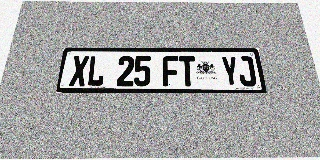2: (116, 56, 134, 86)
5: (134, 56, 151, 86)
F: (162, 56, 179, 86)
J: (236, 56, 257, 86)
L: (86, 56, 106, 86)
T: (179, 56, 196, 86)
X: (69, 56, 89, 86)
Y: (220, 56, 240, 86)
